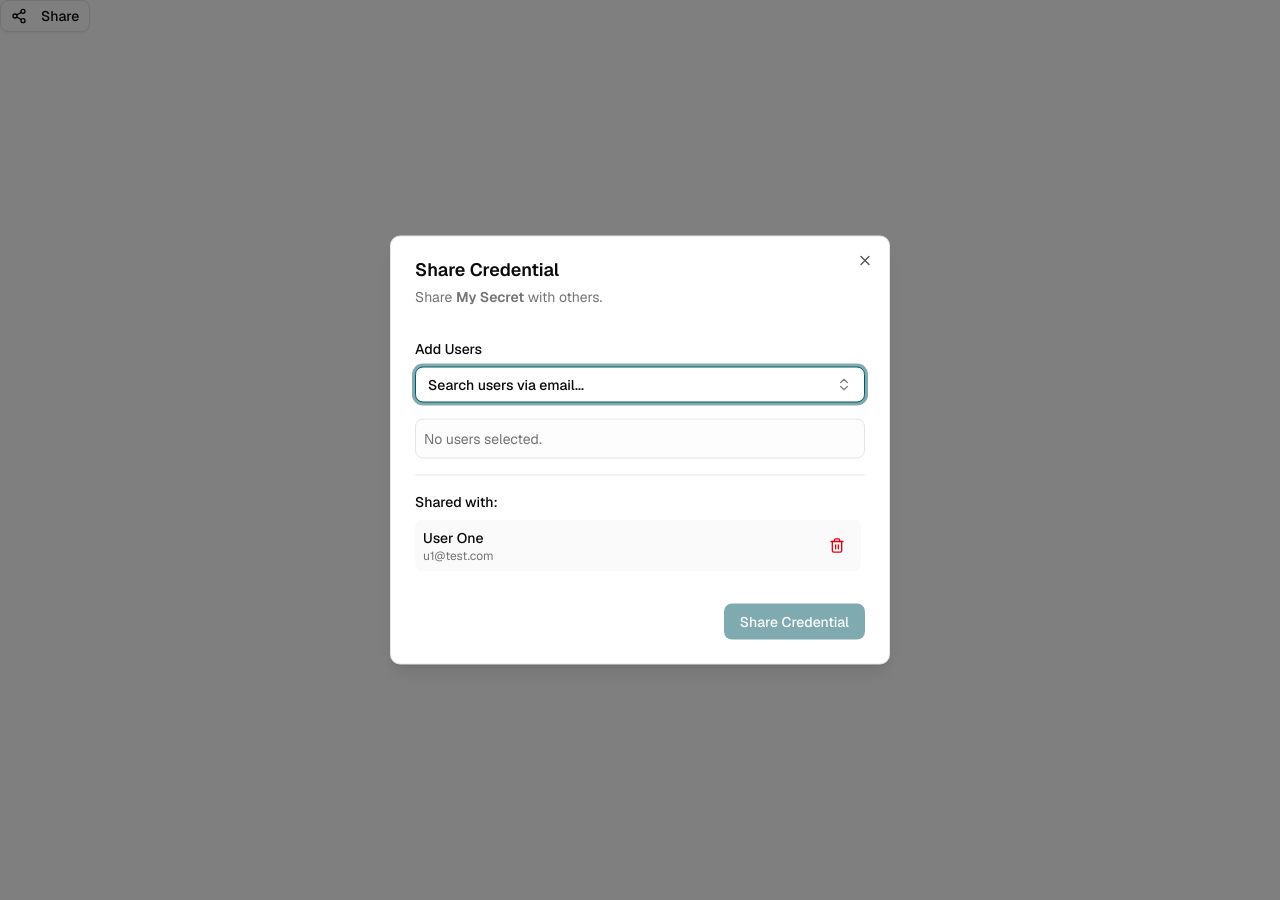
Test: ShareDialog › Removes existing share
Expected: the text "User One" is shown, left=423, top=528, right=494, bottom=548
# Find remove button (trash icon)
Click the button titled "Remove access": (837, 546) left=821, top=530, right=853, bottom=562
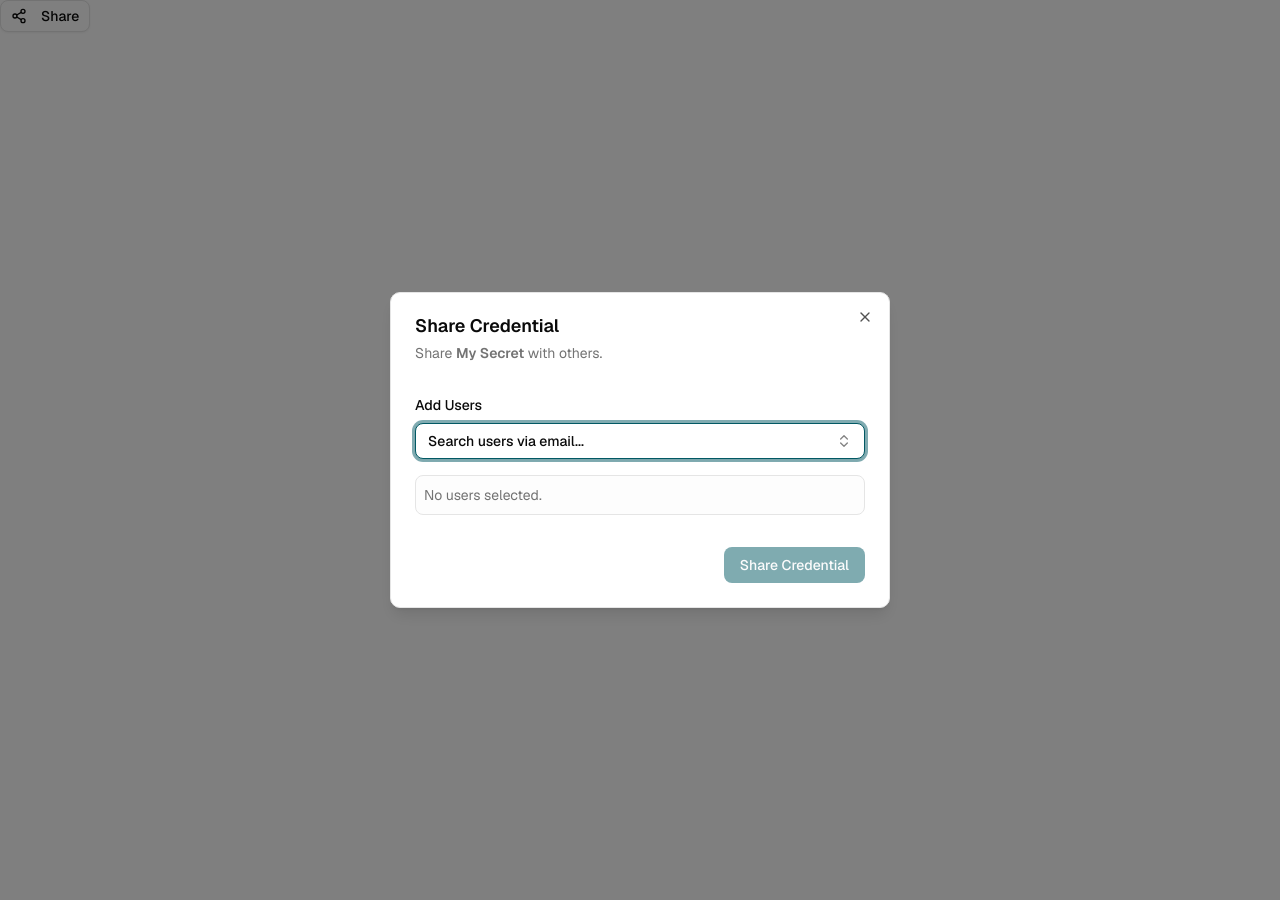
Now the text "User One" is gone
